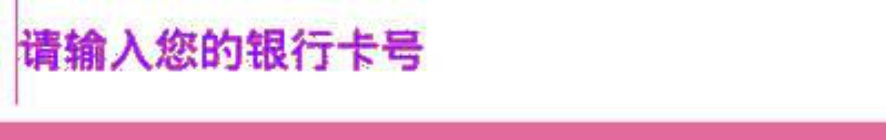EditText: (1, 1, 885, 139)
